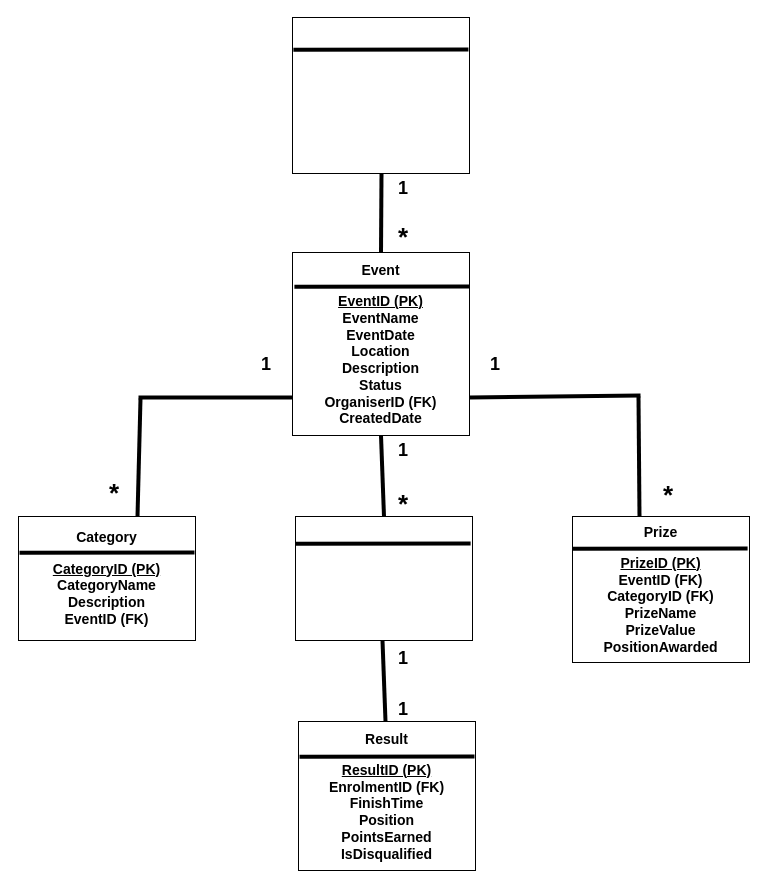
The diagram is 767 pixels wide and 888 high, and some of its shapes have lost their labels. The centre of each missing label's shape, as x and y in pixels:
"Enrolment EnrolmentID (PK) EventID (FK) ParticipantID (FK) EnrolmentDate Status" goes at point 383,578.
"User UserID (PK) Username PasswordHash FullName Email Role CreatedDate" goes at point 381,95.
